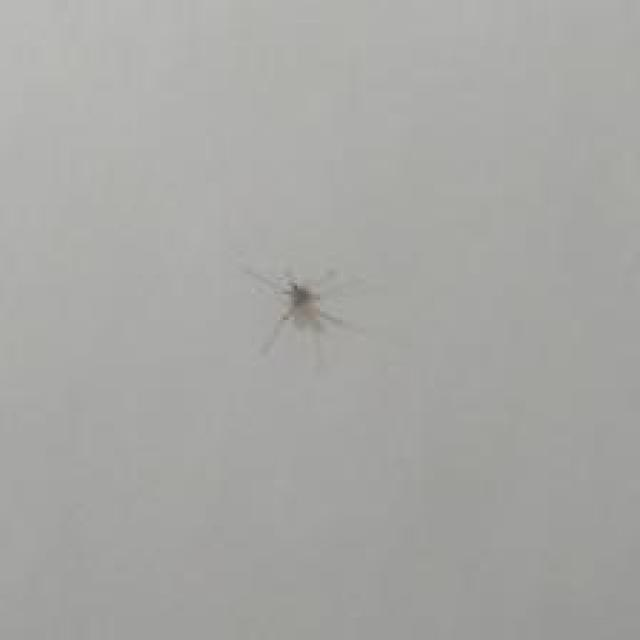Culex: (240, 260, 374, 366)
